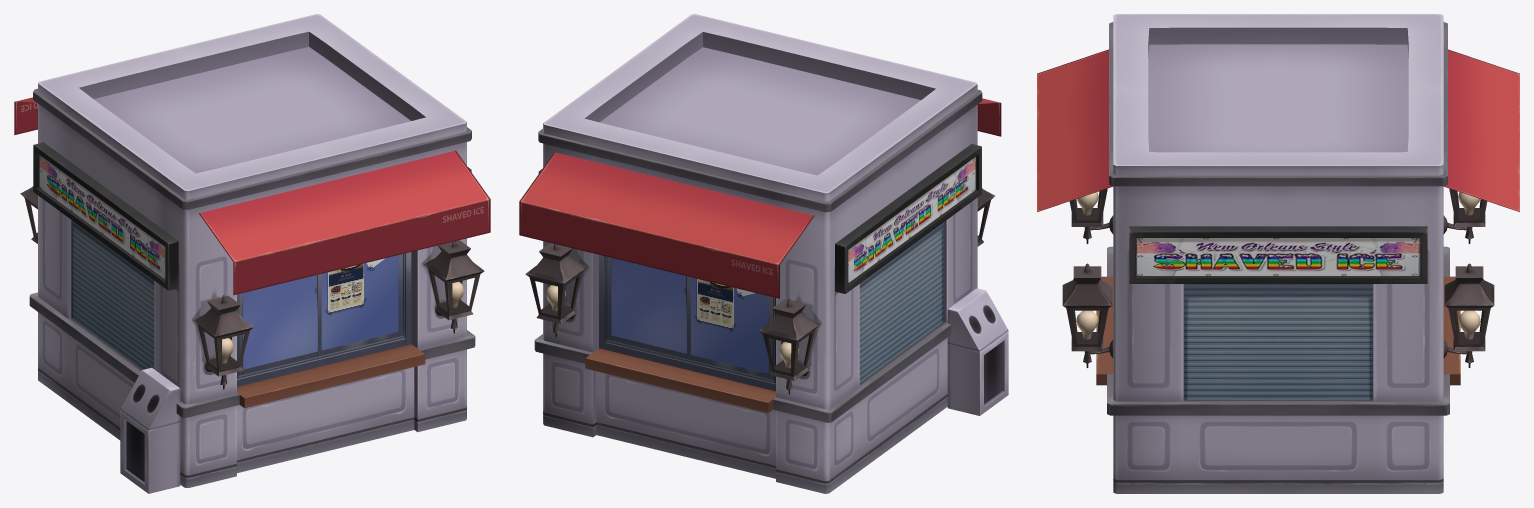
File: Bg_Building_01.FBX
The picture shows the model from 3 angles, left to right: view 1: azimuth 30°, elevation 25°; view 2: azimuth 150°, elevation 25°; view 3: azimuth 270°, elevation 25°; orthographic projection. The views are drawn at different scales.
Parts seen in each view (by area): view 1: Bg_Building_01; view 2: Bg_Building_01; view 3: Bg_Building_01.
Boxes of the visible parts, x1=… form: Bg_Building_01: x1=14, y1=14, x2=490, y2=493; Bg_Building_01: x1=519, y1=14, x2=1008, y2=493; Bg_Building_01: x1=1037, y1=14, x2=1519, y2=493.
Bounding box in the file's own units: 597 × 694 × 520.
